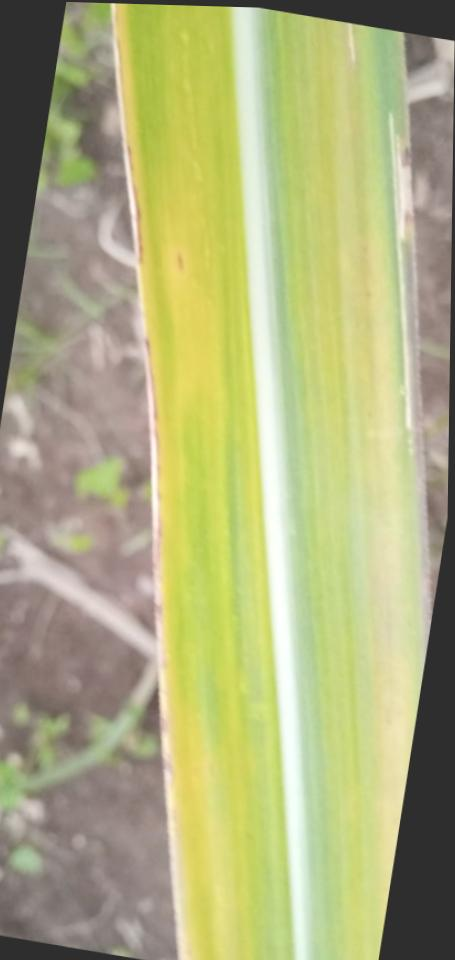RedRot: (174, 253, 183, 272)
Rust: (143, 336, 160, 481), (125, 141, 143, 266), (150, 518, 161, 588), (162, 751, 176, 779), (153, 602, 162, 628), (159, 713, 167, 734), (154, 487, 161, 501)
